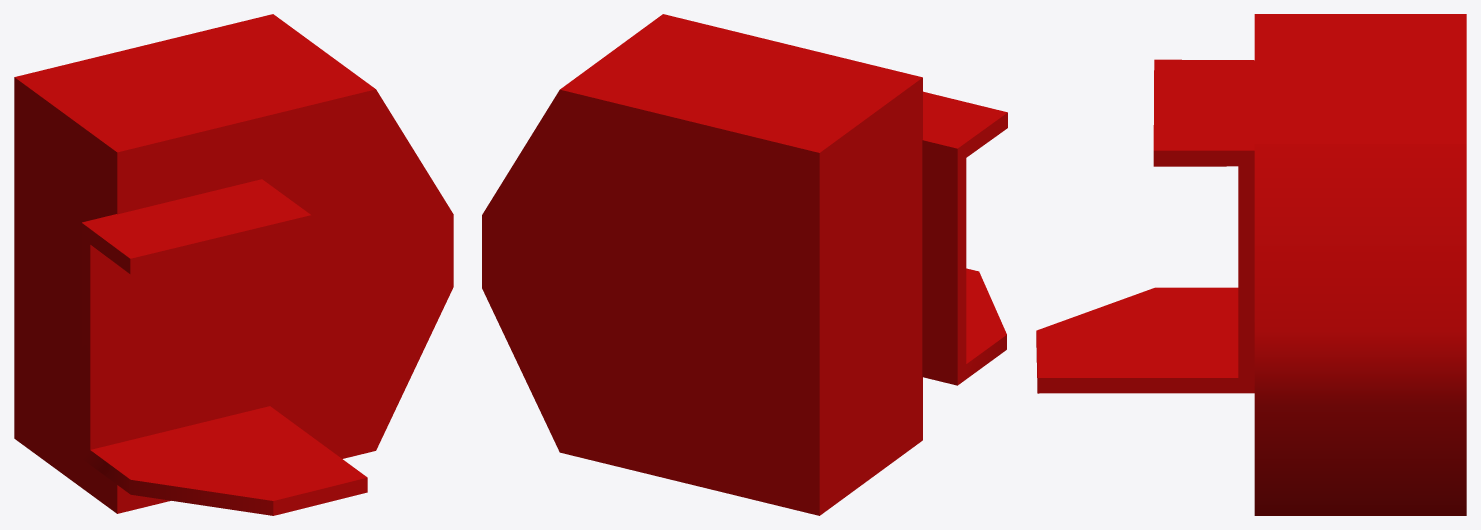
The model's file is gripper_base_collision.dae.
3 views of the same model, side by side, from view 1: azimuth 30°, elevation 25°; view 2: azimuth 150°, elevation 25°; view 3: azimuth 270°, elevation 25° (orthographic). The views are drawn at different scales.
Visible parts, largest first — view 1: gripper_base_collision; view 2: gripper_base_collision; view 3: gripper_base_collision.
Boxes of the visible parts, left/top/right/bottom form: gripper_base_collision: left=14, top=14, right=453, bottom=515; gripper_base_collision: left=482, top=14, right=1007, bottom=515; gripper_base_collision: left=1036, top=14, right=1466, bottom=515.
Bounding box in the file's own units: 0.0827 × 0.0768 × 0.0804.
